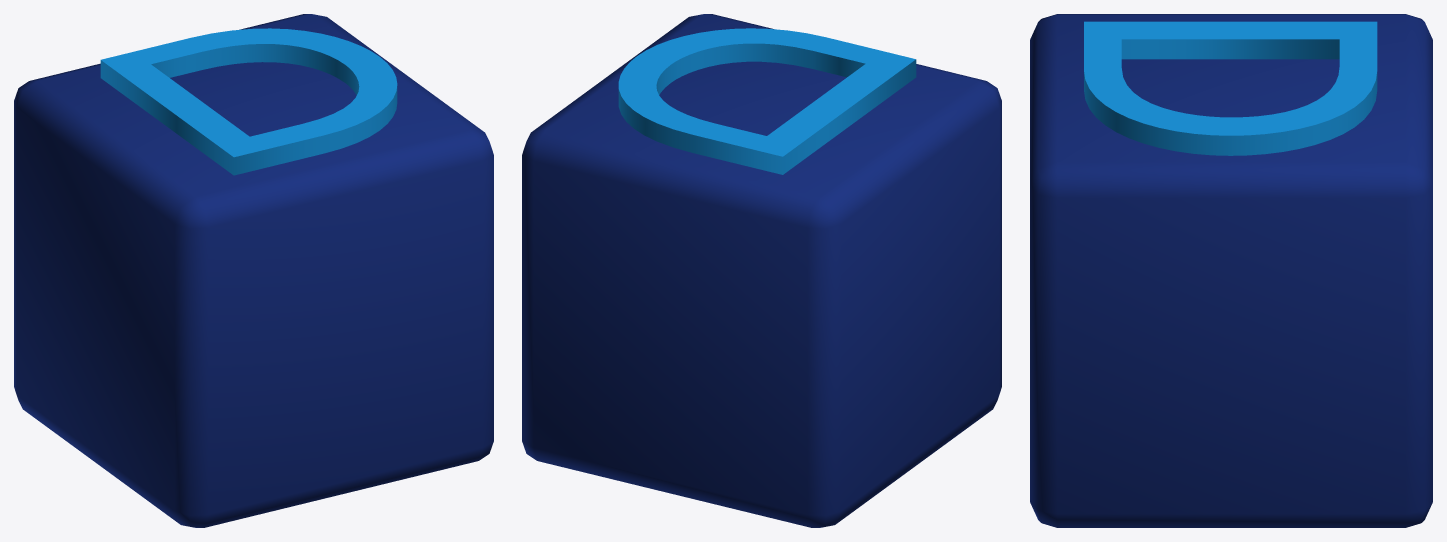
3 renders of one model, left to right at view 1: azimuth 30°, elevation 25°; view 2: azimuth 150°, elevation 25°; view 3: azimuth 270°, elevation 25°, orthographic. The views are drawn at different scales.
Parts seen in each view (by area): view 1: D; view 2: D; view 3: D.
Boxes of the visible parts, x1,y1,x2,y2 form: D: (14, 14, 493, 527); D: (522, 14, 1001, 527); D: (1030, 14, 1432, 527).
Bounding box in the file's own units: 200 × 211 × 200.
